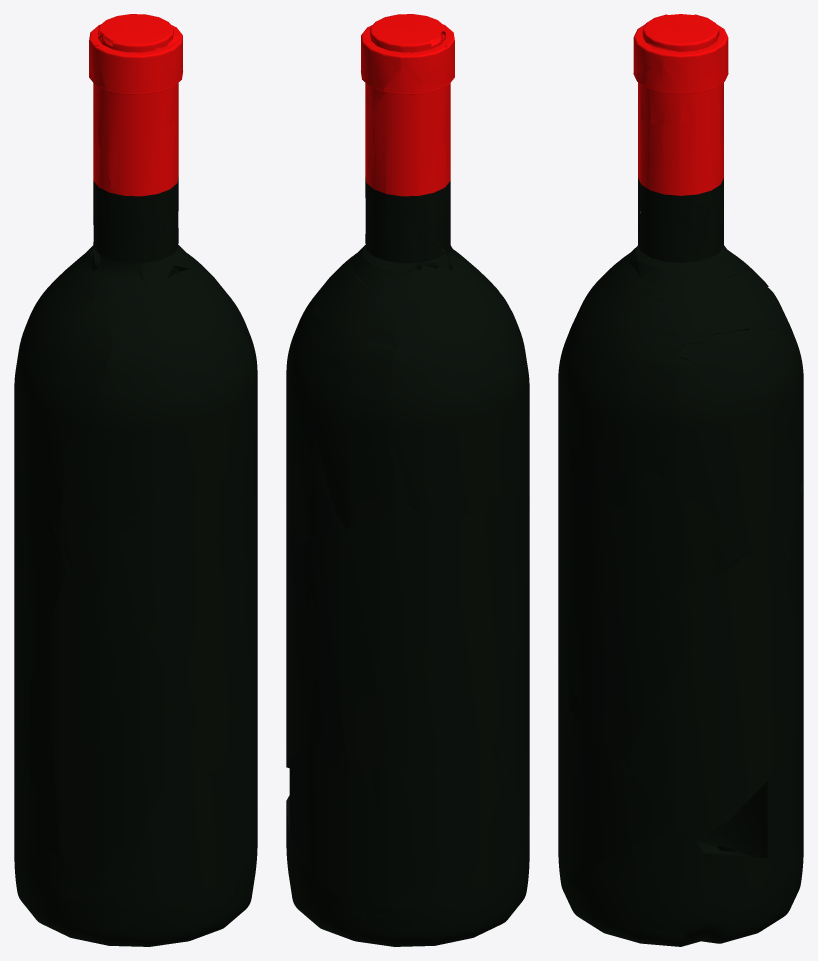
Rendered from bouteille_fract.fbx.
The picture shows the model from 3 angles, left to right: view 1: azimuth 30°, elevation 25°; view 2: azimuth 150°, elevation 25°; view 3: azimuth 270°, elevation 25°; orthographic projection.
Parts seen in each view (by area): view 1: WineBottle_Part_20, WineBottle_Part_23, WineBottle_Part_21, WineBottle_Part_19, WineBottle_Part_13, WineBottle_Part_4, WineBottle_Part_12, WineBottle_Part_30, WineBottle_Part_18, WineBottle_Part_6, WineBottle_Part_10, WineBottle_Part_27 (+7 smaller); view 2: WineBottle_Part_30, WineBottle_Part_13, WineBottle_Part_11, WineBottle_Part_7, WineBottle_Part_25, WineBottle_Part_6, WineBottle_Part_15, WineBottle_Part_26, WineBottle_Part_14, WineBottle_Part_1, WineBottle_Part_8, WineBottle_Part_20 (+10 smaller); view 3: WineBottle_Part_14, WineBottle_Part_23, WineBottle_Part_8, WineBottle_Part_4, WineBottle_Part_19, WineBottle_Part_3, WineBottle_Part_21, WineBottle_Part_7, WineBottle_Part_17, WineBottle_Part_28, WineBottle_Part_1, WineBottle_Part_15 (+8 smaller).
Part boxes in pixels (x1,y1,x2,y2): WineBottle_Part_20: (23,573,200,886); WineBottle_Part_23: (58,268,257,519); WineBottle_Part_21: (86,714,257,945); WineBottle_Part_19: (52,419,257,612); WineBottle_Part_13: (14,266,113,522); WineBottle_Part_4: (117,543,257,717); WineBottle_Part_12: (89,69,168,220); WineBottle_Part_30: (14,480,71,721); WineBottle_Part_18: (92,205,165,341); WineBottle_Part_6: (14,780,80,913); WineBottle_Part_10: (89,19,162,95); WineBottle_Part_27: (28,883,157,946); WineBottle_Part_30: (301,498,529,768); WineBottle_Part_13: (378,269,529,514); WineBottle_Part_11: (373,737,514,914); WineBottle_Part_7: (290,293,413,528); WineBottle_Part_25: (289,738,374,915); WineBottle_Part_6: (381,780,529,941); WineBottle_Part_15: (316,255,398,410); WineBottle_Part_26: (372,68,430,225); WineBottle_Part_14: (286,514,326,768); WineBottle_Part_1: (350,197,453,294); WineBottle_Part_8: (286,325,343,541); WineBottle_Part_20: (500,555,529,820); WineBottle_Part_14: (625,545,798,839); WineBottle_Part_23: (558,258,681,474); WineBottle_Part_8: (659,358,801,557); WineBottle_Part_4: (558,566,732,760); WineBottle_Part_19: (558,447,739,596); WineBottle_Part_3: (564,831,705,946); WineBottle_Part_21: (558,673,674,891); WineBottle_Part_7: (681,328,803,486); WineBottle_Part_17: (640,104,720,228); WineBottle_Part_28: (701,853,803,943); WineBottle_Part_1: (625,199,745,301); WineBottle_Part_15: (658,270,794,344).
Bounding box in the file's own units: 9.16 × 36.32 × 9.16.
